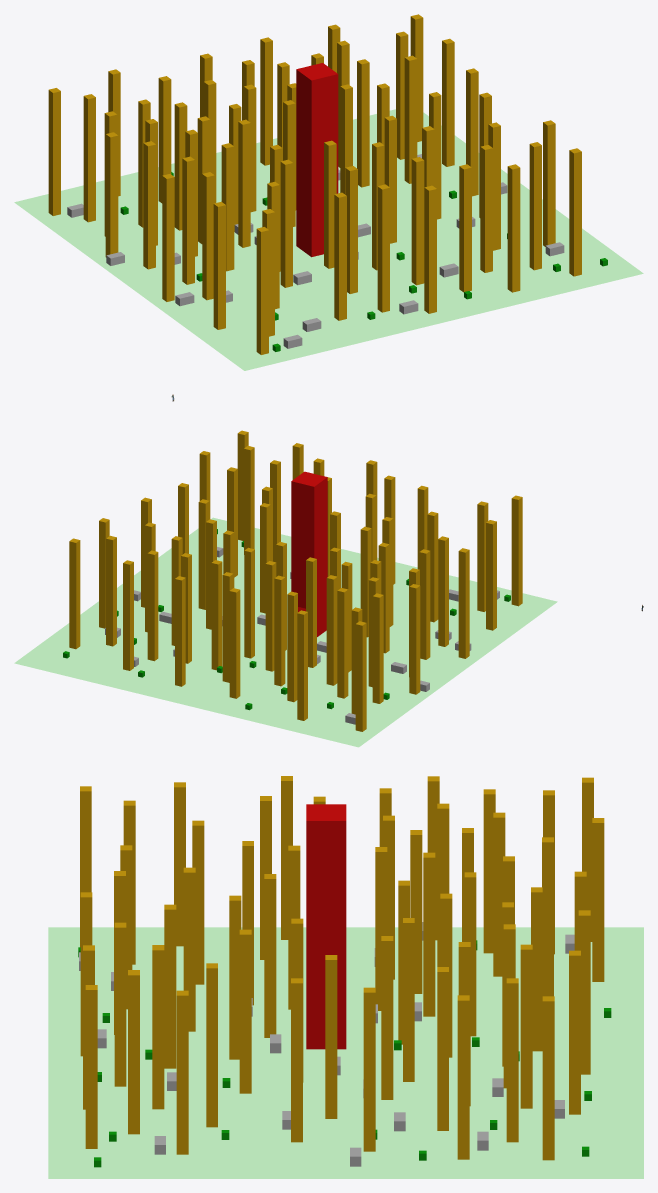
The model's file is Forest Blockout.fbx.
The picture shows the model from 3 angles, top to bottom: view 1: azimuth 30°, elevation 25°; view 2: azimuth 150°, elevation 25°; view 3: azimuth 270°, elevation 25°; orthographic projection. The views are drawn at different scales.
Visible parts, largest first — view 1: Terrain, spawn, TREE13, TREE10, TREE46, TREE7, TREE9, TREE30, TREE59, TREE5, TREE11, TREE16 (+44 smaller); view 2: Terrain, spawn, TREE43, TREE, TREE29, TREE48, TREE53, TREE57, TREE58, TREE42, TREE46, TREE47 (+42 smaller); view 3: Terrain, spawn, TREE59, TREE10, TREE14, TREE15, TREE18, TREE24, TREE41, TREE57, TREE58, TREE60 (+47 smaller).
Part boxes in pixels (box(x1,y1,x2,y2)): Terrain: box(14, 109, 643, 370); spawn: box(296, 63, 338, 257); TREE13: box(507, 164, 520, 292); TREE10: box(411, 157, 424, 285); TREE46: box(105, 132, 118, 257); TREE7: box(280, 159, 292, 287); TREE9: box(377, 184, 389, 312); TREE30: box(143, 141, 155, 269); TREE59: box(442, 38, 454, 166); TREE5: box(334, 192, 346, 320); TREE11: box(424, 185, 436, 313); TREE16: box(569, 148, 581, 276); Terrain: box(14, 517, 557, 747); spawn: box(291, 471, 327, 636); TREE43: box(274, 575, 285, 686); TREE: box(511, 495, 522, 606); TREE29: box(458, 548, 469, 658); TREE48: box(337, 588, 348, 698); TREE53: box(229, 588, 240, 698); TREE57: box(147, 550, 158, 661); TREE58: box(69, 538, 80, 649); TREE42: box(326, 575, 337, 685); TREE46: box(409, 584, 420, 694); TREE47: box(372, 593, 383, 703); Terrain: box(48, 927, 643, 1178); spawn: box(306, 804, 346, 1049); TREE59: box(457, 995, 469, 1159); TREE10: box(164, 904, 176, 1068); TREE14: box(152, 945, 164, 1109); TREE15: box(176, 990, 188, 1154); TREE18: box(239, 929, 251, 1093); TREE24: box(363, 987, 375, 1151); TREE41: box(423, 852, 435, 1016); TREE57: box(520, 944, 532, 1108); TREE58: box(542, 996, 554, 1160); TREE60: box(506, 978, 518, 1142).
Bounding box in the file's own units: 4378 × 1523 × 3807.
